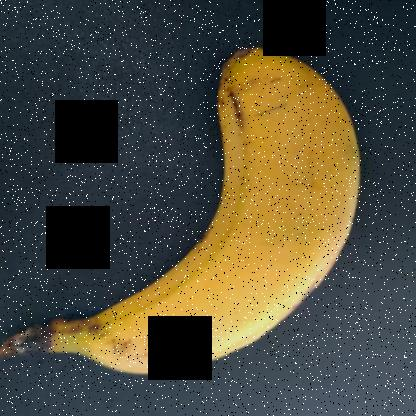freshripe: (41, 50, 375, 402)
